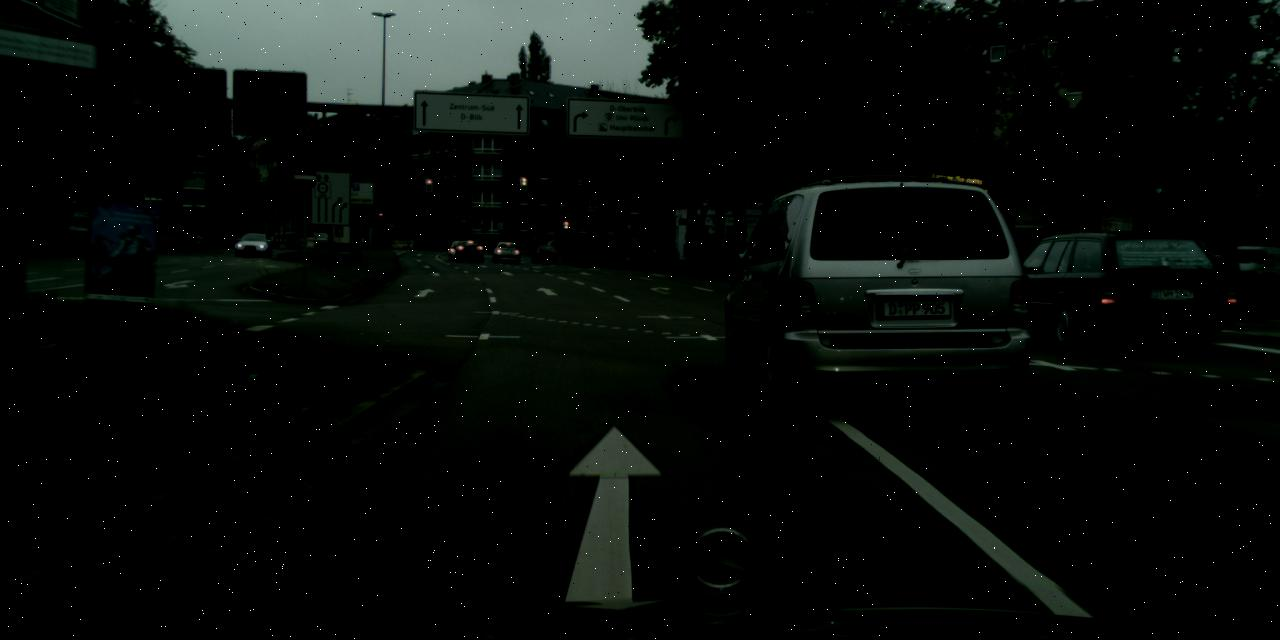ped: (532, 234, 538, 249), (644, 242, 650, 257)
